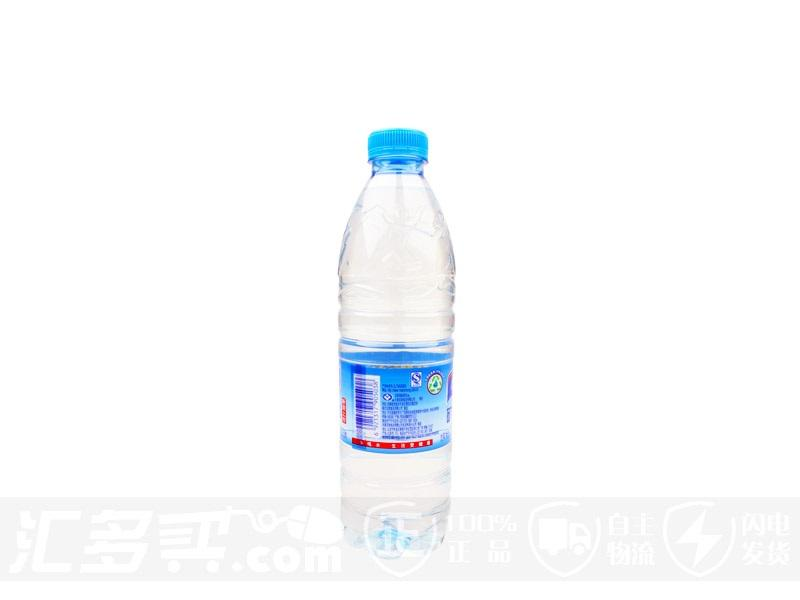amwater: (311, 107, 486, 569)
